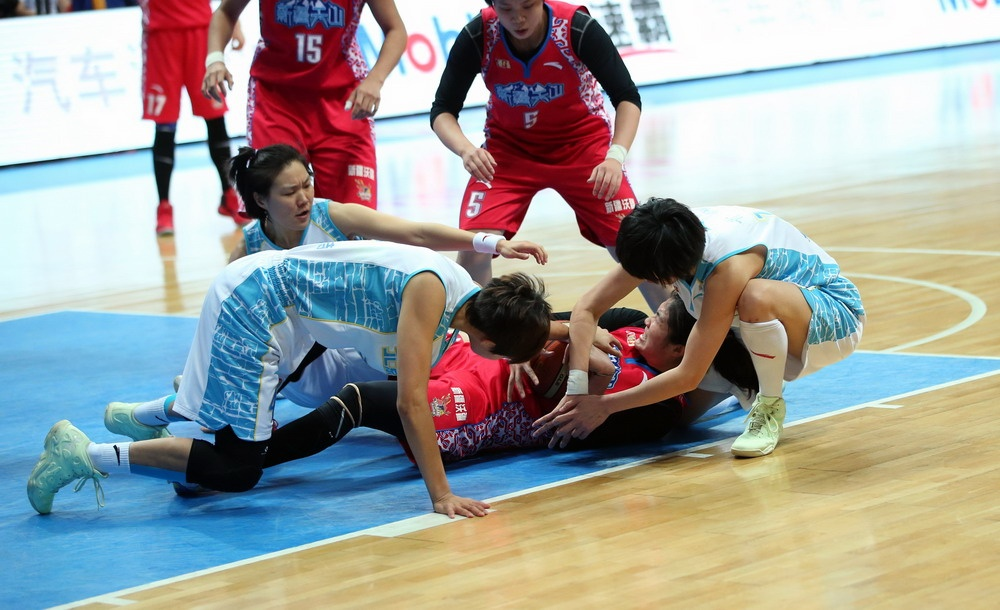falling: (97, 239, 577, 509)
